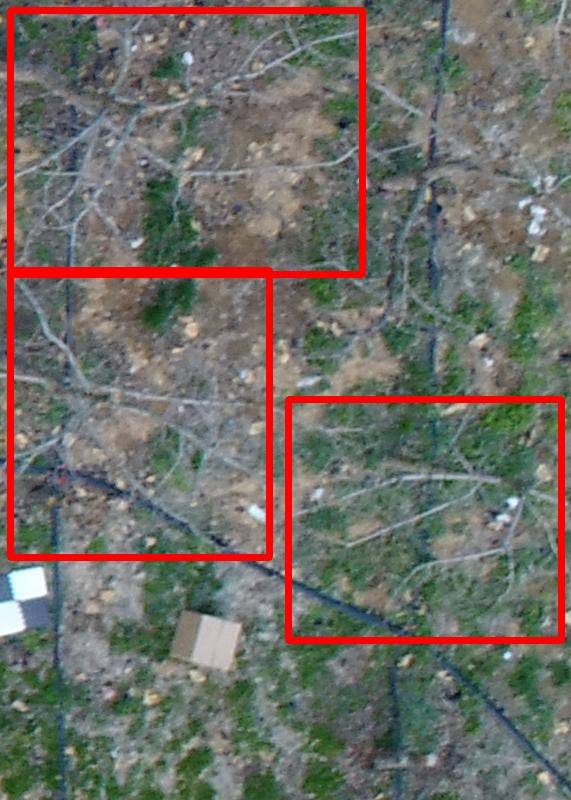apple: (10, 10, 362, 274), (10, 270, 269, 557), (288, 399, 561, 640)
